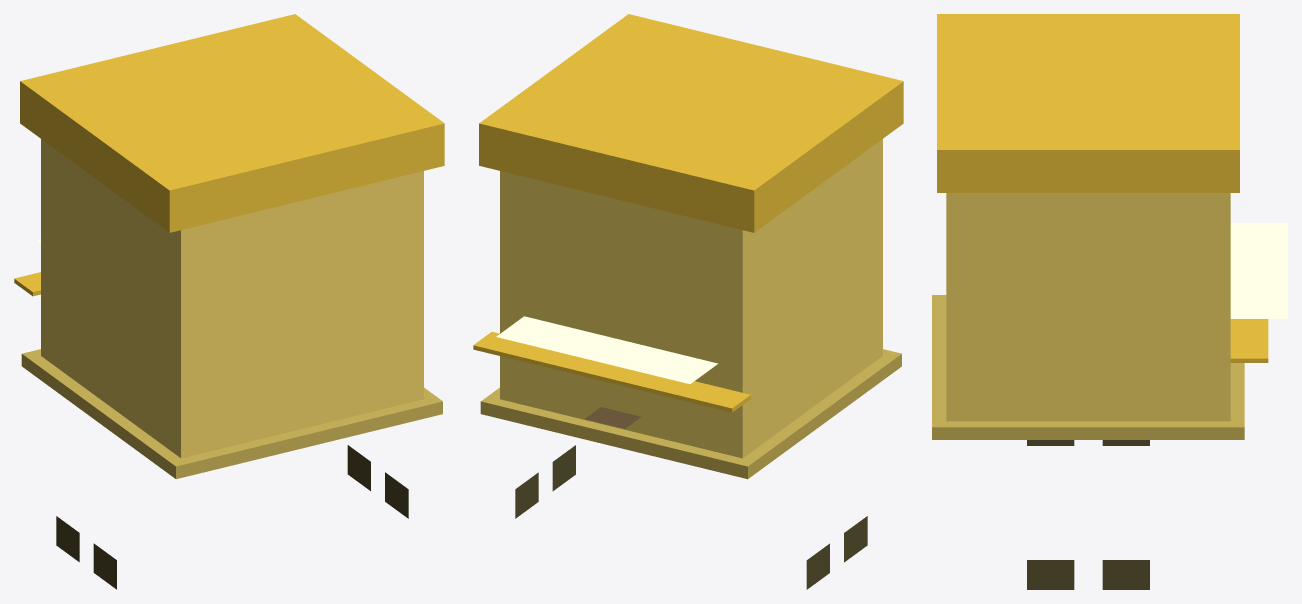
File: writers_studio.glb
The picture shows the model from 3 angles, left to right: view 1: azimuth 30°, elevation 25°; view 2: azimuth 150°, elevation 25°; view 3: azimuth 270°, elevation 25°; orthographic projection.
Parts seen in each view (by area): view 1: writers_studio; view 2: writers_studio; view 3: writers_studio.
Boxes of the visible parts, box(x1,y1,x2,y2) form: writers_studio: box(14, 14, 444, 589); writers_studio: box(473, 14, 903, 589); writers_studio: box(932, 14, 1287, 589).
Size of the model in its own units: 3.6 by 5.08 by 3.75.
